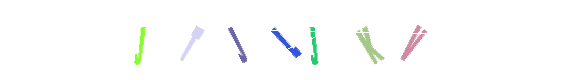J: (100, 0, 180, 80), (225, 0, 305, 80), (274, 0, 354, 80)
K: (307, 0, 387, 80)
L: (247, 0, 327, 80)
T: (211, 0, 291, 80)
V: (358, 0, 438, 80)
